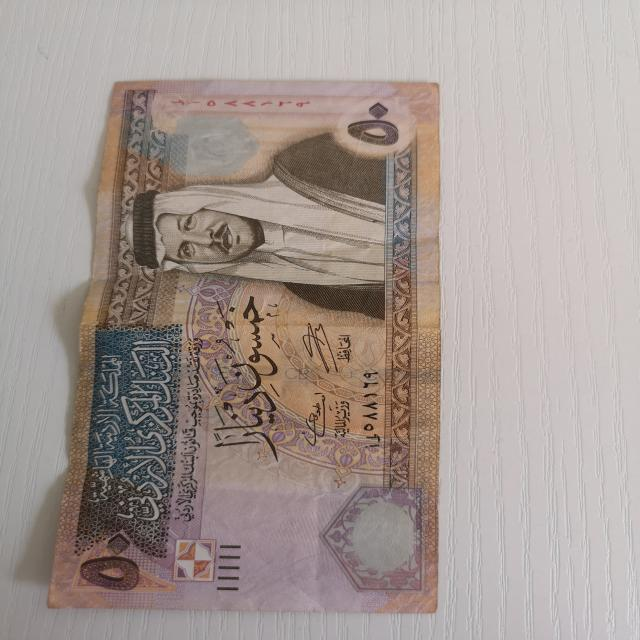50-dinar: (47, 79, 438, 610)
